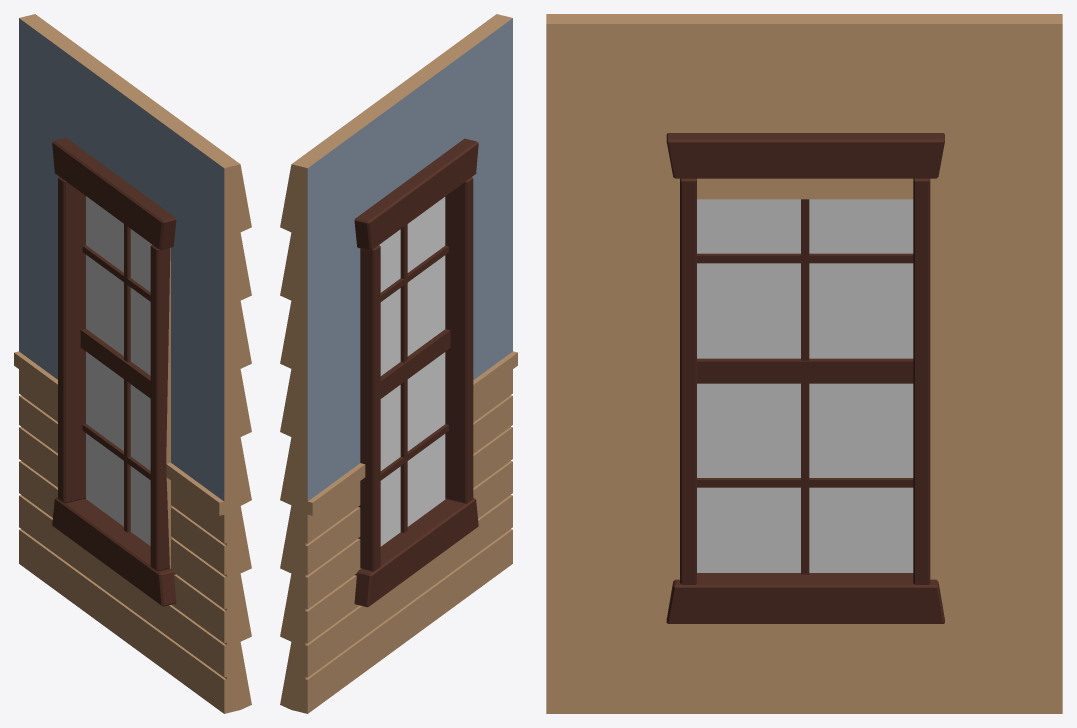
Rendered from Small Window B.glb.
3 views of the same model, side by side, from view 1: azimuth 30°, elevation 25°; view 2: azimuth 150°, elevation 25°; view 3: azimuth 270°, elevation 25° (orthographic). The views are drawn at different scales.
Visible parts, largest first — view 1: Small Window B; view 2: Small Window B; view 3: Small Window B.
Part boxes in pixels (x1=…): Small Window B: x1=14, y1=14, x2=251, y2=713; Small Window B: x1=280, y1=14, x2=517, y2=713; Small Window B: x1=546, y1=14, x2=1062, y2=713.
Size of the model in its own units: 19.48 by 220 by 150.
